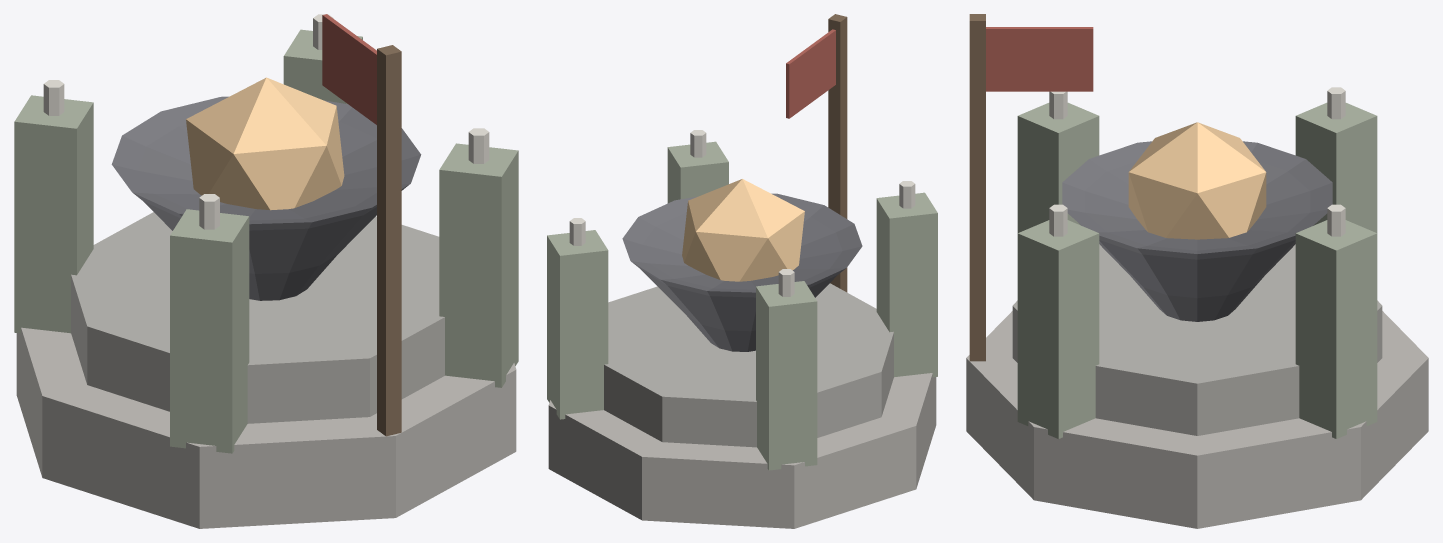
File: rest_shrine.glb
3 renders of one model, left to right at view 1: azimuth 30°, elevation 25°; view 2: azimuth 150°, elevation 25°; view 3: azimuth 270°, elevation 25°, orthographic. The views are drawn at different scales.
Parts seen in each view (by area): view 1: rest_shrine; view 2: rest_shrine; view 3: rest_shrine.
Part boxes in pixels (bbox=[...]): rest_shrine: bbox=[14, 14, 518, 528]; rest_shrine: bbox=[547, 14, 937, 528]; rest_shrine: bbox=[966, 14, 1428, 528].
Bounding box in the file's own units: 2 × 1.98 × 2.
